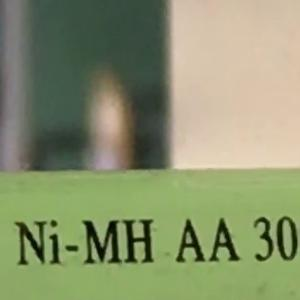keyword: (5, 209, 159, 275)
